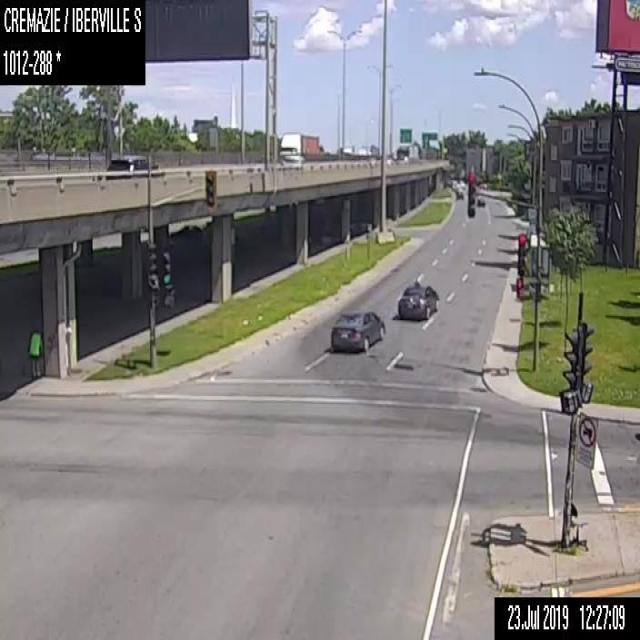pedestrian: (26, 323, 43, 377)
vehicle: (329, 305, 386, 351), (396, 280, 440, 317), (105, 152, 158, 179), (279, 130, 320, 158), (396, 142, 418, 162), (280, 154, 305, 169), (343, 144, 356, 158), (356, 146, 371, 158), (450, 178, 459, 188), (455, 189, 463, 199), (476, 197, 484, 206), (458, 179, 465, 188)
